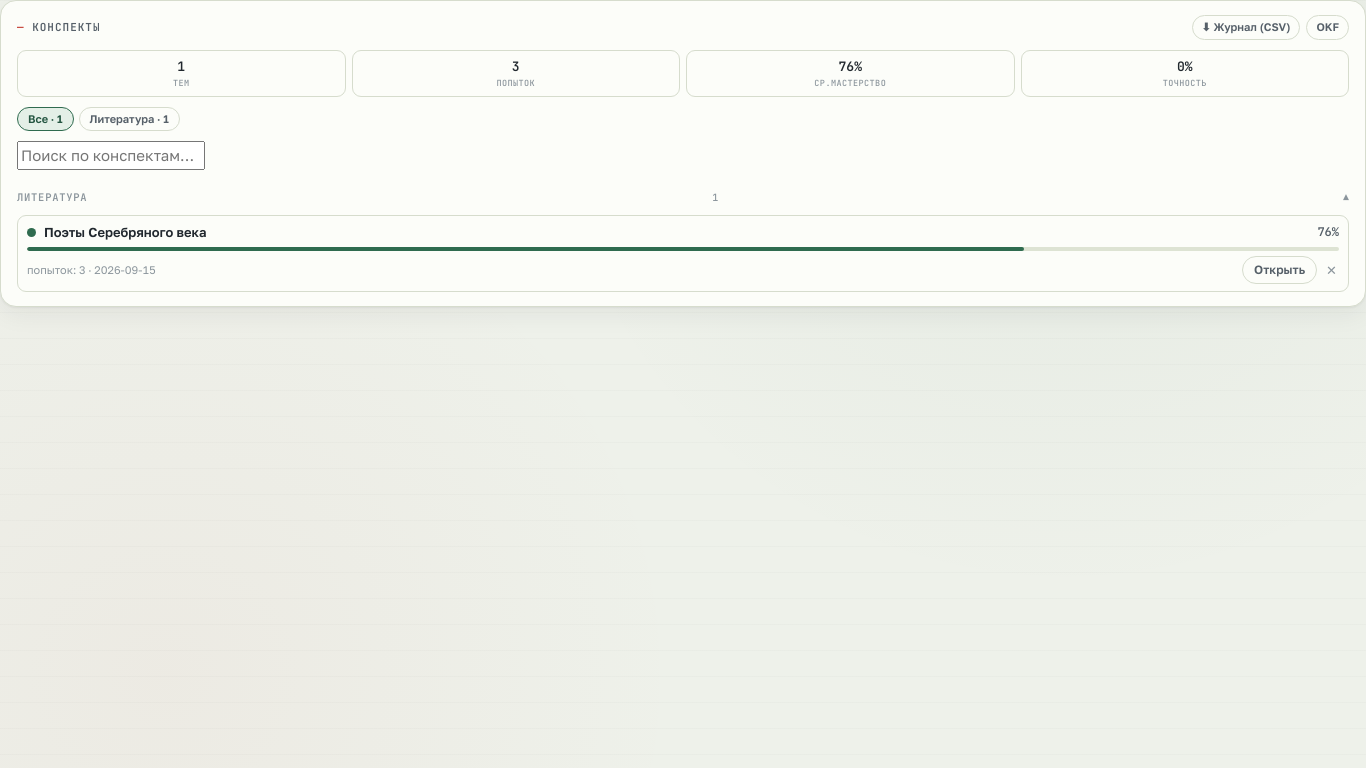
Test: <KnowledgeWikiPanel/> › рендерит stats-бар, карточку с прогрессом и датой; клик открывает ридер
Expected: the button "Литература · 1" is shown, [78,107,180,131]
Expected: the text with class "wiki-pct" reads "76%", [1317,223,1339,241]
Click the button "Поэты Серебряного века" at [125, 232], box [44,222,1309,242]
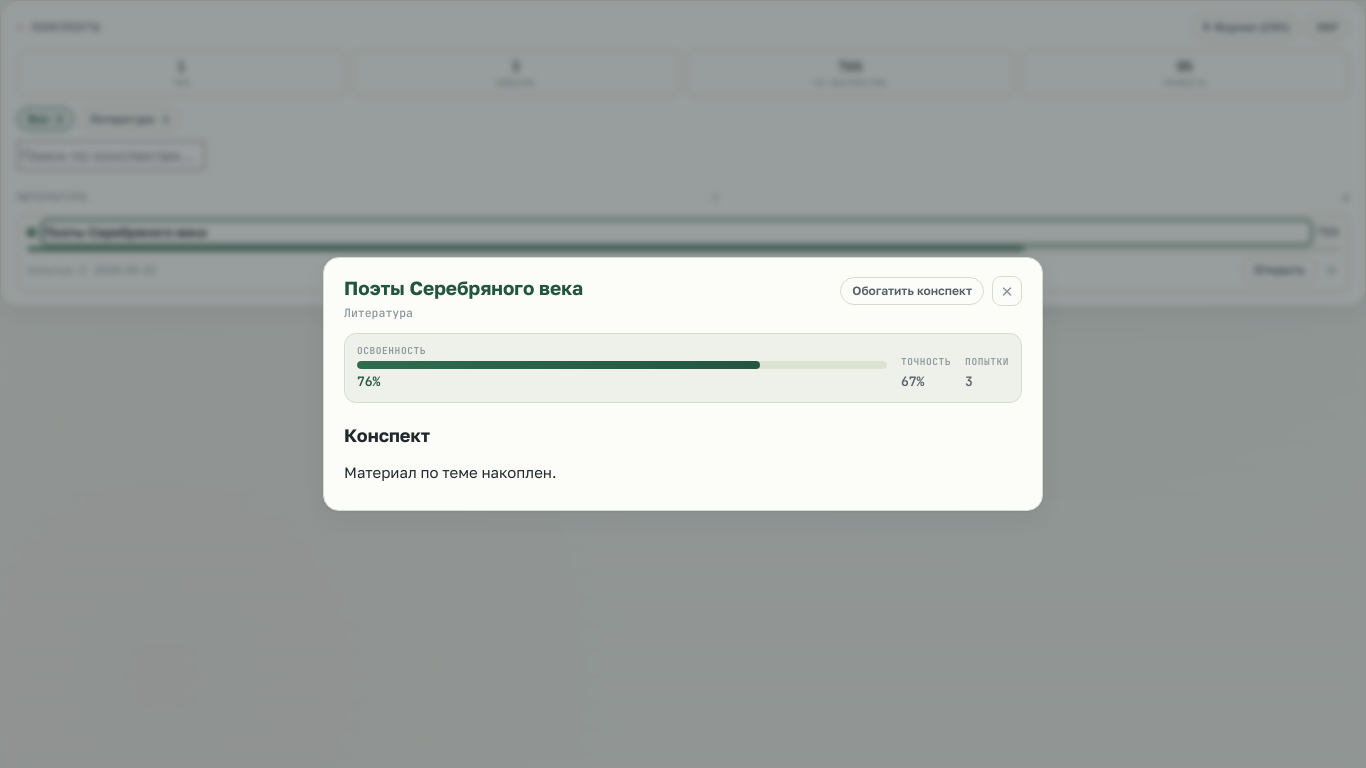
Result: the dialog is shown
